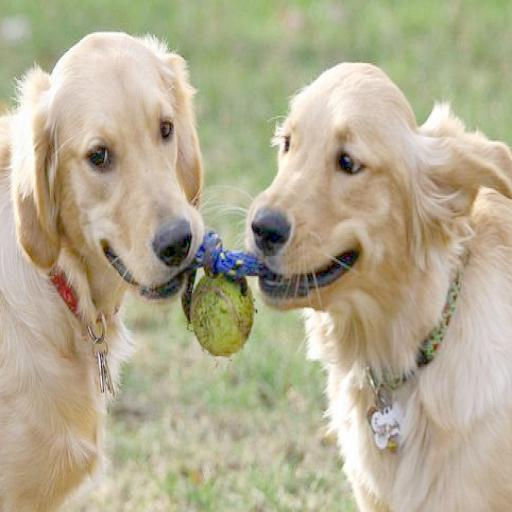dog_face: (258, 55, 506, 315), (11, 29, 208, 290)
